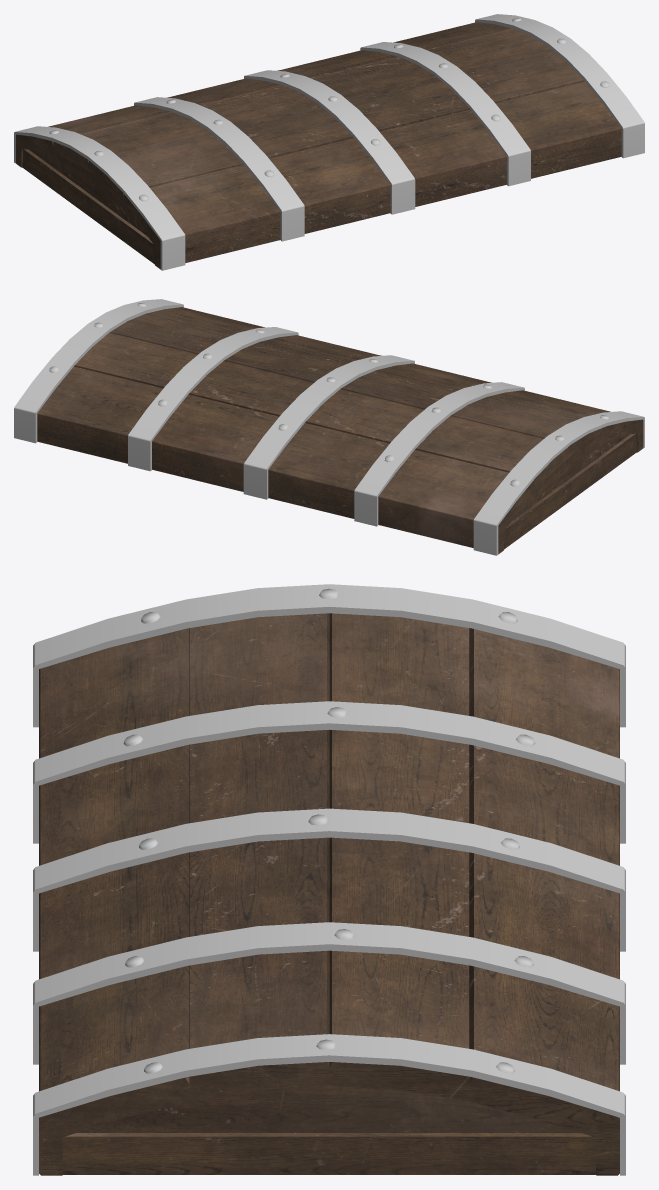
File: SM_Chest_lid_01.fbx
3 renders of one model, top to bottom at view 1: azimuth 30°, elevation 25°; view 2: azimuth 150°, elevation 25°; view 3: azimuth 270°, elevation 25°, orthographic. The views are drawn at different scales.
Visible parts, largest first — view 1: SM_Chest_lid_01_LOD0; view 2: SM_Chest_lid_01_LOD0; view 3: SM_Chest_lid_01_LOD0.
Part boxes in pixels (x1,y1,x2,y2): SM_Chest_lid_01_LOD0: [14, 14, 644, 270]; SM_Chest_lid_01_LOD0: [14, 299, 644, 555]; SM_Chest_lid_01_LOD0: [33, 584, 625, 1175].
Size of what is drawn, in the model's own units: 136 by 16.67 by 72.53.
